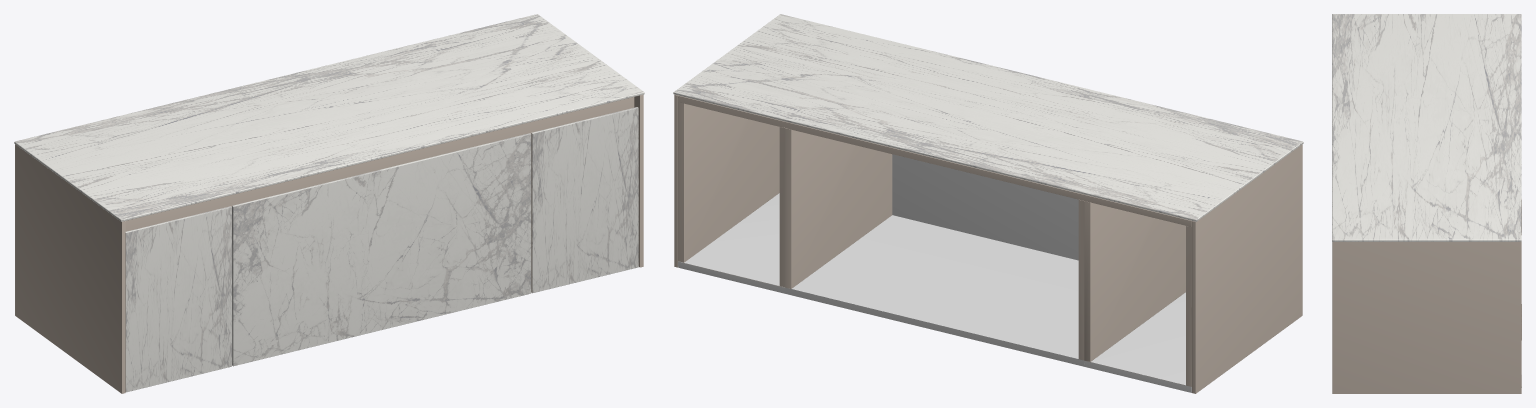
The picture shows the model from 3 angles, left to right: view 1: azimuth 30°, elevation 25°; view 2: azimuth 150°, elevation 25°; view 3: azimuth 270°, elevation 25°; orthographic projection. The views are drawn at different scales.
Visible parts, largest first — view 1: EL03; view 2: EL03; view 3: EL03.
Boxes of the visible parts, x1,y1,x2,y2 form: EL03: (14,14,644,393); EL03: (673,14,1303,393); EL03: (1332,14,1521,393).
Size of the model in its own units: 1.4 by 0.446 by 0.4966.
Materials: 4 (1 with a texture image).
